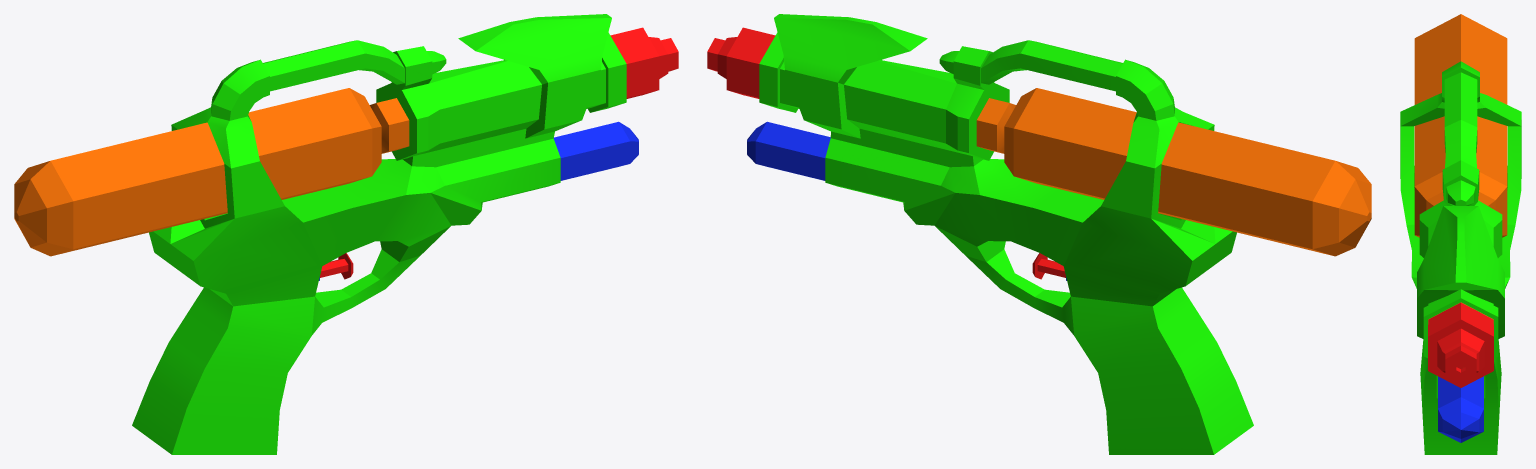
Rendered from water_gun.glb.
The picture shows the model from 3 angles, left to right: view 1: azimuth 30°, elevation 25°; view 2: azimuth 150°, elevation 25°; view 3: azimuth 270°, elevation 25°; orthographic projection.
Visible parts, largest first — view 1: WaterGun_0; view 2: WaterGun_0; view 3: WaterGun_0.
Boxes of the visible parts, bbox=[...] form: WaterGun_0: bbox=[14, 14, 678, 454]; WaterGun_0: bbox=[707, 14, 1371, 454]; WaterGun_0: bbox=[1400, 14, 1521, 454].
Size of the model in its own units: 0.2517 by 0.1403 by 0.0398.
1 material, 1 textured.
